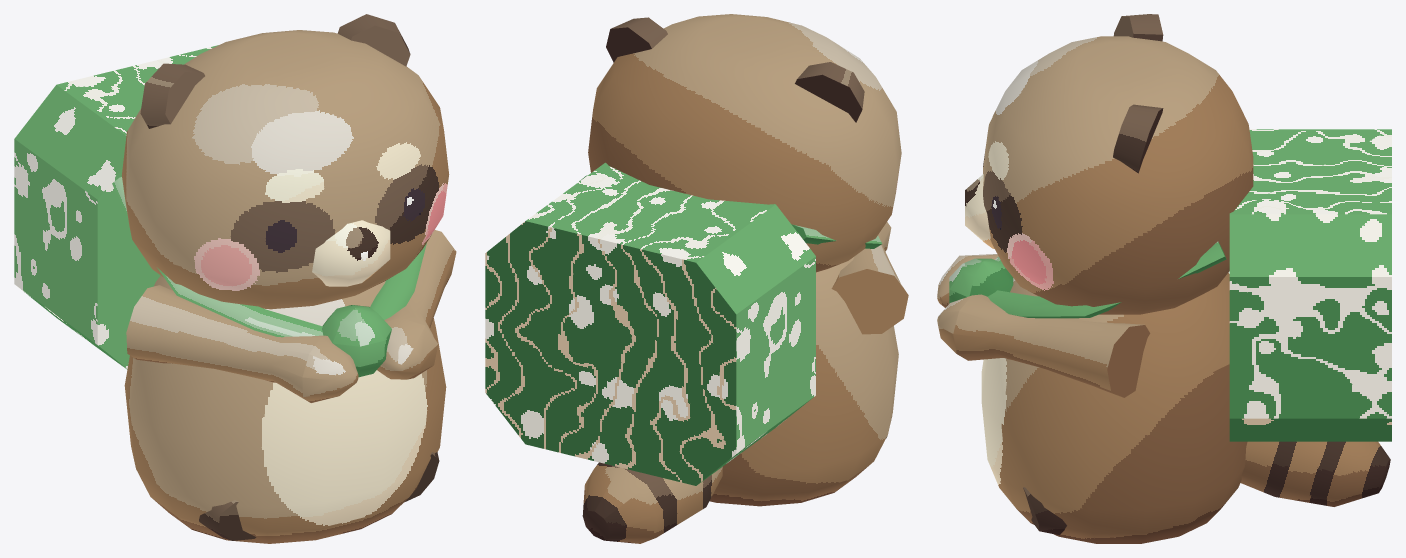
The model's file is parcel.glb.
3 views of the same model, side by side, from view 1: azimuth 30°, elevation 25°; view 2: azimuth 150°, elevation 25°; view 3: azimuth 270°, elevation 25° (orthographic). The views are drawn at different scales.
Visible parts, largest first — view 1: head, body, parcel, armL, armR, muzzle, knot, strapL, earL, earR, strapR, legL; view 2: parcel, head, body, tail, armL, earL, earR, strapL; view 3: head, parcel, body, armR, tail, strapR, knot, earR, muzzle, earL, legR, armL.
Boxes of the visible parts, box(x1,y1,x2,y2) form: head: box(121, 30, 449, 309); body: box(124, 276, 446, 543); parcel: box(14, 45, 218, 369); armL: box(126, 285, 358, 402); armR: box(377, 230, 456, 379); muzzle: box(312, 220, 390, 286); knot: box(322, 305, 391, 377); strapL: box(112, 177, 323, 337); earL: box(140, 63, 204, 128); earR: box(337, 14, 410, 66); strapR: box(370, 243, 426, 319); legL: box(199, 500, 256, 540); parcel: box(485, 162, 815, 485); head: box(588, 14, 901, 272); body: box(710, 256, 898, 506); tail: box(582, 462, 722, 543); armL: box(831, 222, 908, 334); earL: box(795, 62, 864, 122); earR: box(606, 17, 667, 62); strapL: box(791, 224, 882, 248); head: box(983, 36, 1253, 314); parcel: box(1229, 129, 1391, 441); body: box(981, 273, 1247, 543); armR: box(937, 294, 1150, 397); tail: box(1240, 441, 1390, 506); strapR: box(988, 241, 1226, 318); knot: box(949, 258, 1013, 303); earR: box(1113, 104, 1163, 173); muzzle: box(965, 174, 994, 248); earL: box(1113, 14, 1163, 41); legR: box(1023, 487, 1066, 535); armL: box(937, 254, 998, 307).
Bounding box in the file's own units: 25.19 × 32.59 × 30.81.
Materials: 1 (1 with a texture image).
